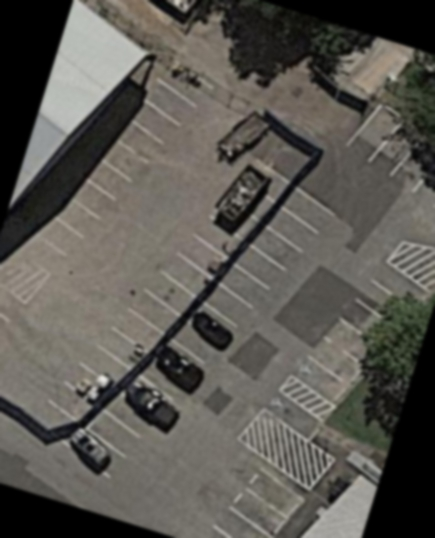parkingspot: (64, 182, 340, 480), (19, 54, 218, 261), (74, 212, 247, 388), (288, 257, 433, 407), (342, 101, 435, 212), (196, 460, 309, 538), (258, 386, 326, 442), (42, 376, 99, 425), (0, 282, 30, 339)
